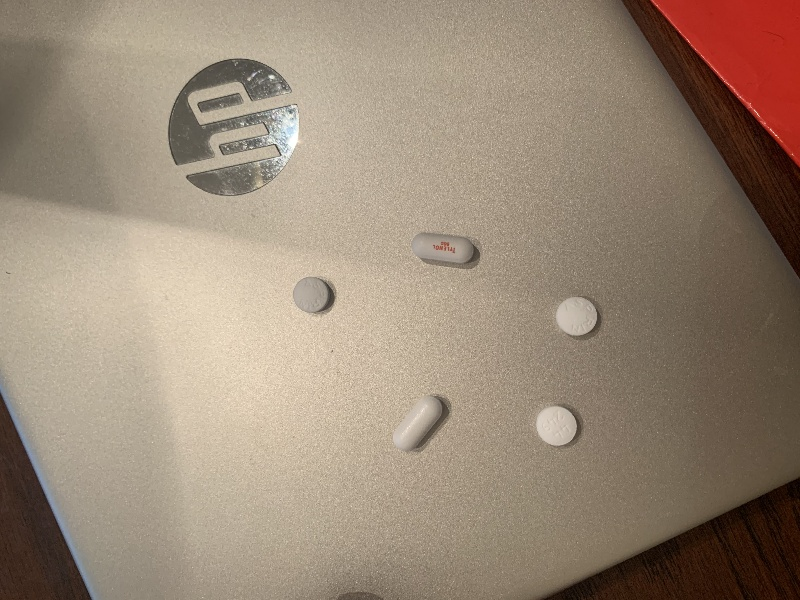Aspirin: (532, 404, 585, 449), (552, 294, 603, 339), (289, 273, 337, 316)
Tylenol: (386, 392, 447, 455), (408, 230, 481, 269)
